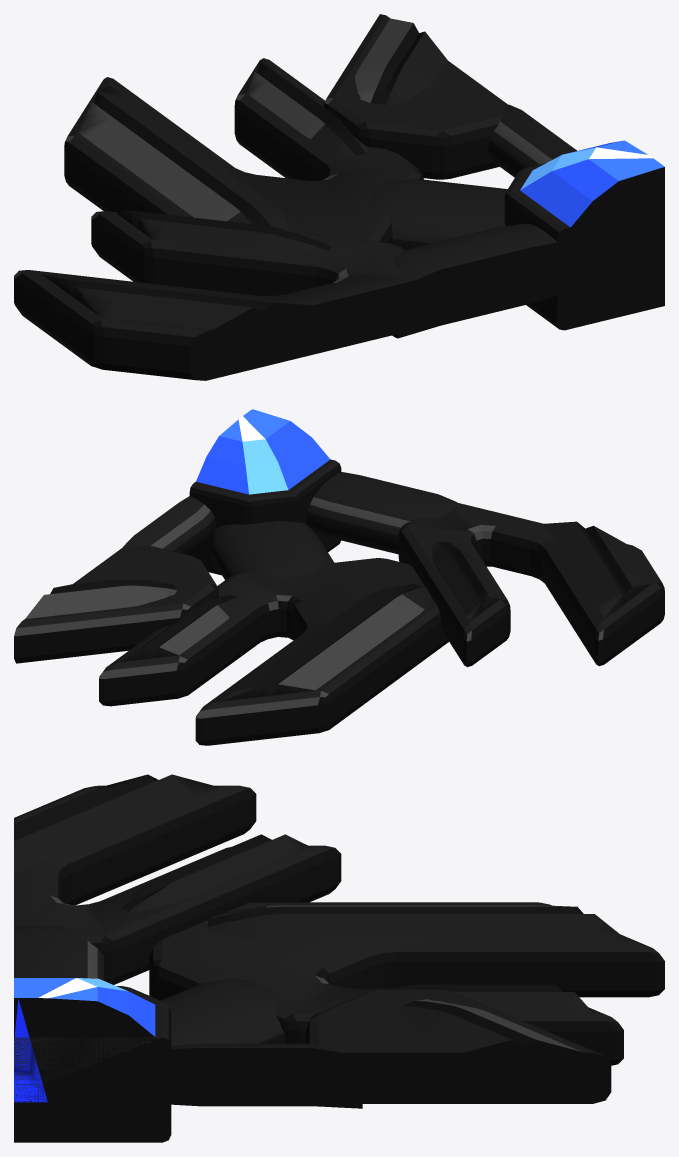
Rendered from dark_saw_233.glb.
3 renders of one model, top to bottom at view 1: azimuth 30°, elevation 25°; view 2: azimuth 150°, elevation 25°; view 3: azimuth 270°, elevation 25°, orthographic. The views are drawn at different scales.
Visible parts, largest first — view 1: dark_saw_233_arm3_plate, dark_saw_233_under3_plate, dark_saw_233_arm0_plate, dark_saw_233_arm3_rod, dark_saw_233_gem, dark_saw_233_under3_ridge0, dark_saw_233_gem_bezel, dark_saw_233_arm3_ridge0, dark_saw_233_under3_rod, dark_saw_233_arm0_ridge0, dark_saw_233_arm3_ridge1, dark_saw_233_under3_ridge1 (+1 smaller); view 2: dark_saw_233_under3_plate, dark_saw_233_arm3_plate, dark_saw_233_arm0_plate, dark_saw_233_under3_ridge0, dark_saw_233_gem, dark_saw_233_arm3_rod, dark_saw_233_under3_rod, dark_saw_233_arm3_ridge0, dark_saw_233_gem_bezel, dark_saw_233_arm0_ridge0, dark_saw_233_arm0_rod, dark_saw_233_under3_ridge1 (+1 smaller); view 3: dark_saw_233_under3_plate, dark_saw_233_arm3_plate, dark_saw_233_arm0_plate, dark_saw_233_gem_bezel, dark_saw_233_gem, dark_saw_233_under3_ridge0, dark_saw_233_arm0_rod, dark_saw_233_arm3_ridge0, dark_saw_233_under3_rod, dark_saw_233_arm0_ridge0, dark_saw_233_arm3_ridge1, dark_saw_233_arm3_rod (+1 smaller).
Part boxes in pixels (x1,y1,x2,y2): dark_saw_233_arm3_plate: [14, 211, 444, 380]; dark_saw_233_under3_plate: [64, 58, 423, 243]; dark_saw_233_arm0_plate: [323, 14, 507, 179]; dark_saw_233_arm3_rod: [392, 223, 596, 338]; dark_saw_233_gem: [520, 140, 664, 268]; dark_saw_233_under3_ridge0: [79, 85, 289, 230]; dark_saw_233_gem_bezel: [504, 163, 664, 330]; dark_saw_233_arm3_ridge0: [43, 274, 322, 340]; dark_saw_233_under3_rod: [370, 178, 507, 249]; dark_saw_233_arm0_ridge0: [355, 18, 447, 104]; dark_saw_233_arm3_ridge1: [116, 210, 331, 253]; dark_saw_233_under3_ridge1: [248, 62, 368, 155]; dark_saw_233_under3_plate: [99, 558, 448, 745]; dark_saw_233_arm3_plate: [398, 503, 664, 667]; dark_saw_233_arm0_plate: [14, 544, 218, 663]; dark_saw_233_under3_ridge0: [222, 583, 430, 700]; dark_saw_233_gem: [196, 409, 330, 494]; dark_saw_233_arm3_rod: [307, 472, 457, 554]; dark_saw_233_under3_rod: [209, 521, 334, 579]; dark_saw_233_arm3_ridge0: [544, 521, 651, 618]; dark_saw_233_gem_bezel: [189, 459, 341, 575]; dark_saw_233_arm0_ridge0: [25, 579, 176, 618]; dark_saw_233_arm0_rod: [123, 496, 216, 555]; dark_saw_233_under3_ridge1: [120, 595, 241, 661]; dark_saw_233_under3_plate: [149, 902, 664, 1065]; dark_saw_233_arm3_plate: [14, 785, 341, 984]; dark_saw_233_arm0_plate: [306, 989, 611, 1103]; dark_saw_233_gem_bezel: [14, 986, 171, 1142]; dark_saw_233_gem: [14, 978, 158, 1104]; dark_saw_233_under3_ridge0: [208, 905, 628, 941]; dark_saw_233_arm0_rod: [124, 1043, 362, 1108]; dark_saw_233_arm3_ridge0: [14, 774, 219, 873]; dark_saw_233_under3_rod: [161, 979, 286, 1046]; dark_saw_233_arm0_ridge0: [398, 999, 595, 1061]; dark_saw_233_arm3_ridge1: [119, 834, 310, 912]; dark_saw_233_arm3_rod: [14, 925, 105, 981].
Bounding box in the file's own units: 22.7 × 5.63 × 22.97.
